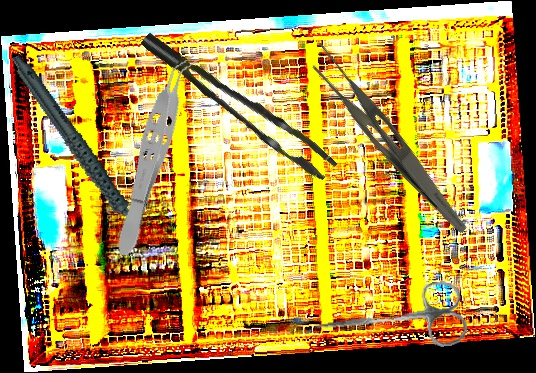Dressing Forceps: (295, 39, 488, 236)
Handpiece: (10, 37, 145, 263)
Iris Scissors: (308, 278, 470, 363)
Tissue Forceps: (140, 9, 338, 198), (107, 48, 202, 260)
